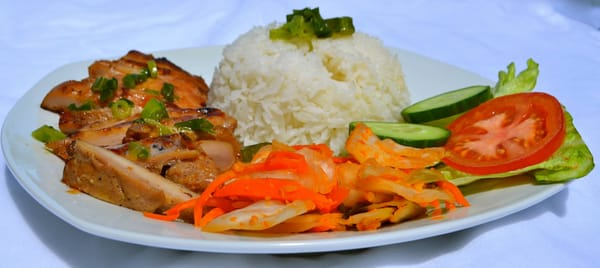soup: (34, 50, 241, 211)
